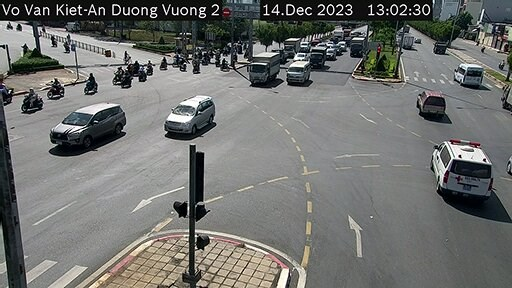car: (50, 102, 123, 150), (170, 93, 216, 135), (287, 58, 312, 89), (458, 58, 481, 83), (417, 90, 442, 112)
motorbike: (19, 88, 42, 114), (77, 73, 98, 93), (43, 80, 61, 100)
truck: (247, 49, 284, 87), (283, 35, 305, 56), (307, 45, 326, 66)
